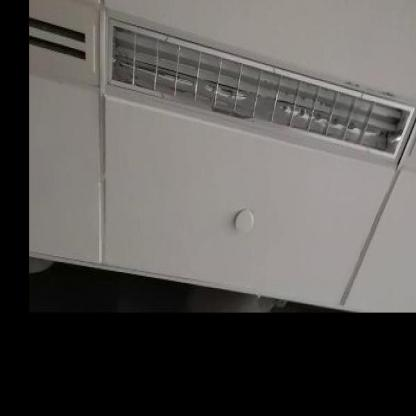light_off: (95, 0, 416, 169)
